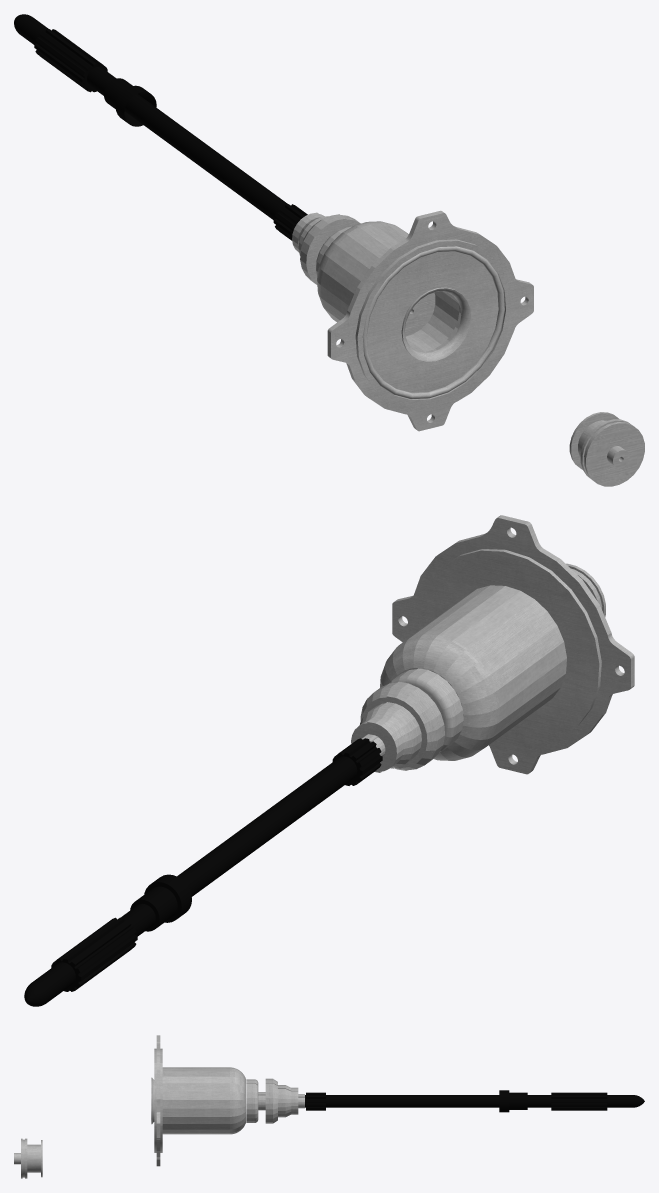
3 views of the same model, one above another, from view 1: azimuth 30°, elevation 25°; view 2: azimuth 150°, elevation 25°; view 3: azimuth 270°, elevation 25° (orthographic). The views are drawn at different scales.
Parts seen in each view (by area): view 1: slongsong, 4, 3; view 2: slongsong; view 3: slongsong, 4.
Boxes of the visible parts, x1,y1,x2,y2 form: slongsong: (14, 14, 533, 431); 4: (569, 412, 644, 486); 3: (405, 292, 435, 336); slongsong: (24, 515, 634, 1006); slongsong: (151, 1035, 644, 1166); 4: (14, 1138, 42, 1178).
Bounding box in the file's own units: 257 × 257 × 1177.
Materials: 7 (3 with a texture image).
